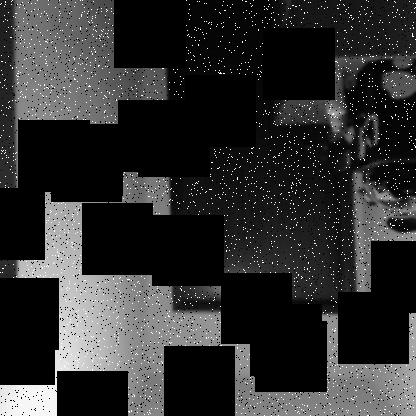Porte: (163, 0, 359, 316)
